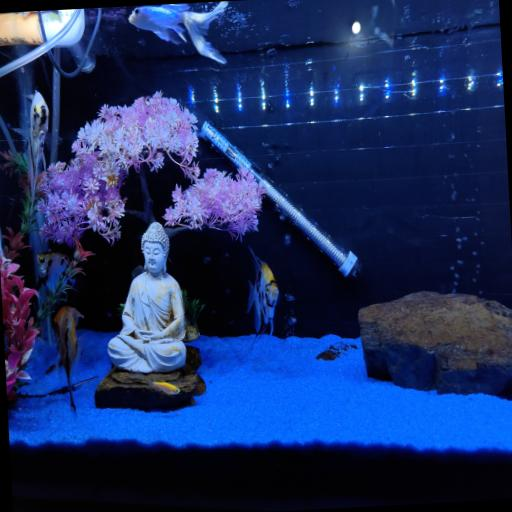Fish: (128, 1, 227, 64), (246, 248, 278, 355), (53, 307, 82, 410), (27, 91, 48, 198), (36, 252, 67, 290), (147, 381, 179, 395), (45, 365, 55, 374), (284, 294, 294, 301)
